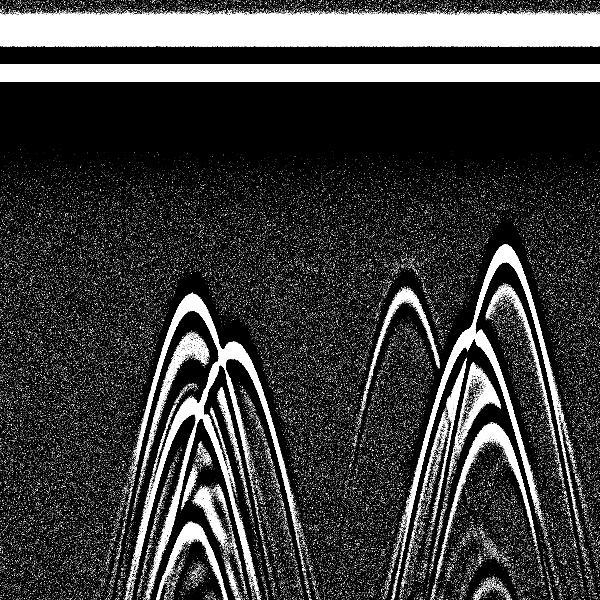pipe: (186, 5, 282, 426), (423, 5, 518, 416), (147, 5, 233, 376), (362, 3, 448, 364), (468, 6, 546, 325)
